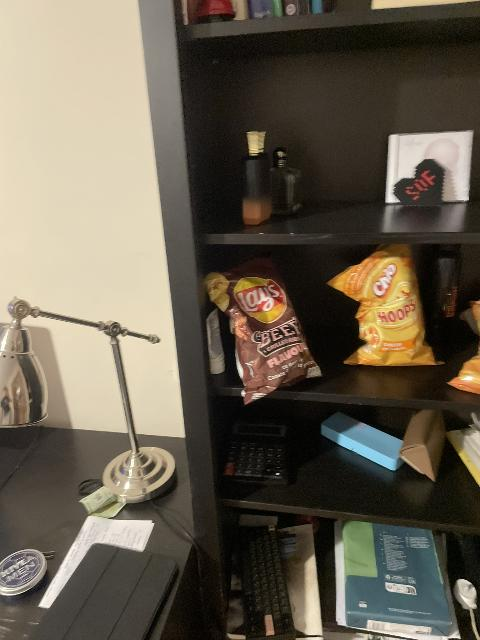Chio Hula Hoops Cheese 70g: (332, 245, 441, 365)
Lays Beef Grilled Ribs 125g: (204, 253, 325, 402)
